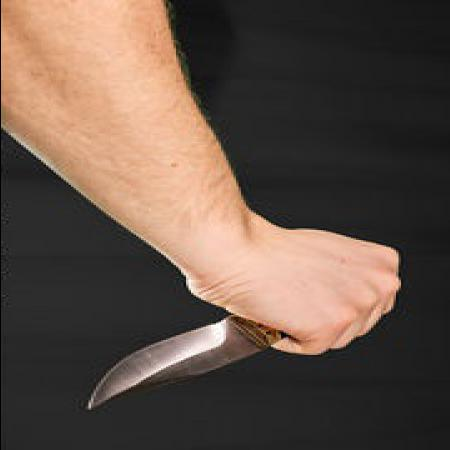long weapon: (80, 272, 405, 416)
